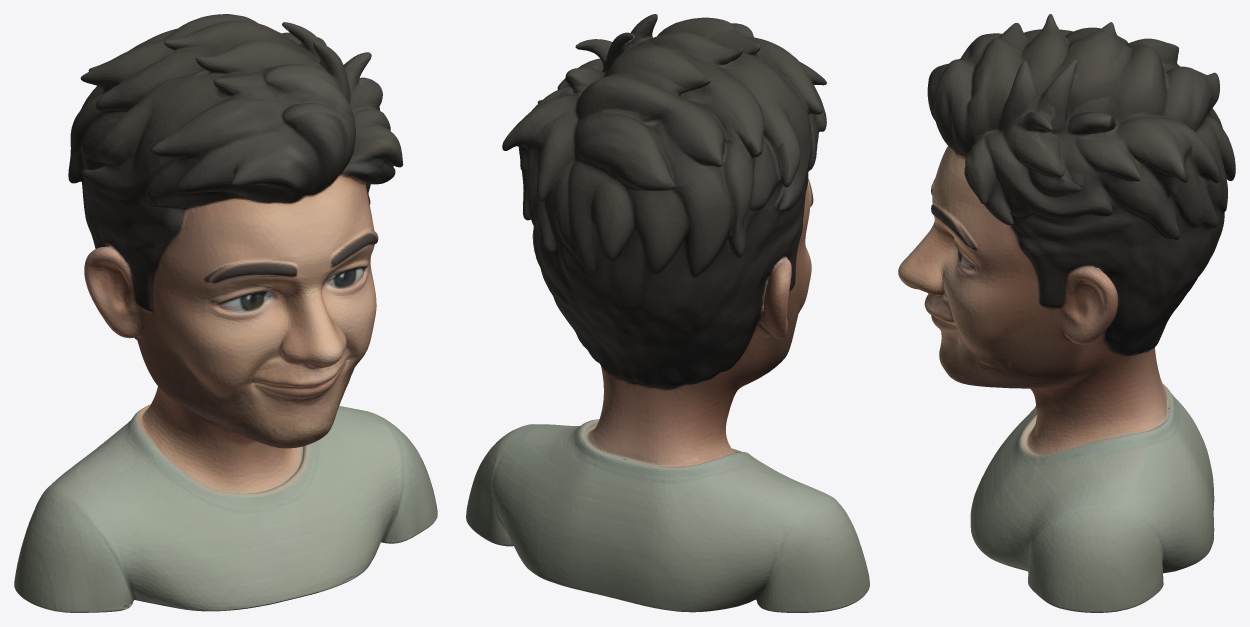
The picture shows the model from 3 angles, left to right: view 1: azimuth 30°, elevation 25°; view 2: azimuth 150°, elevation 25°; view 3: azimuth 270°, elevation 25°; orthographic projection. The views are drawn at different scales.
Parts seen in each view (by area): view 1: tmpuo8nbafl.ply; view 2: tmpuo8nbafl.ply; view 3: tmpuo8nbafl.ply.
Part boxes in pixels (box(x1,y1,x2,y2)): tmpuo8nbafl.ply: box(14, 14, 437, 612); tmpuo8nbafl.ply: box(466, 14, 869, 612); tmpuo8nbafl.ply: box(898, 14, 1235, 612).
Size of the model in its own units: 1.61 by 1.99 by 1.26.
1 material, 1 textured.
